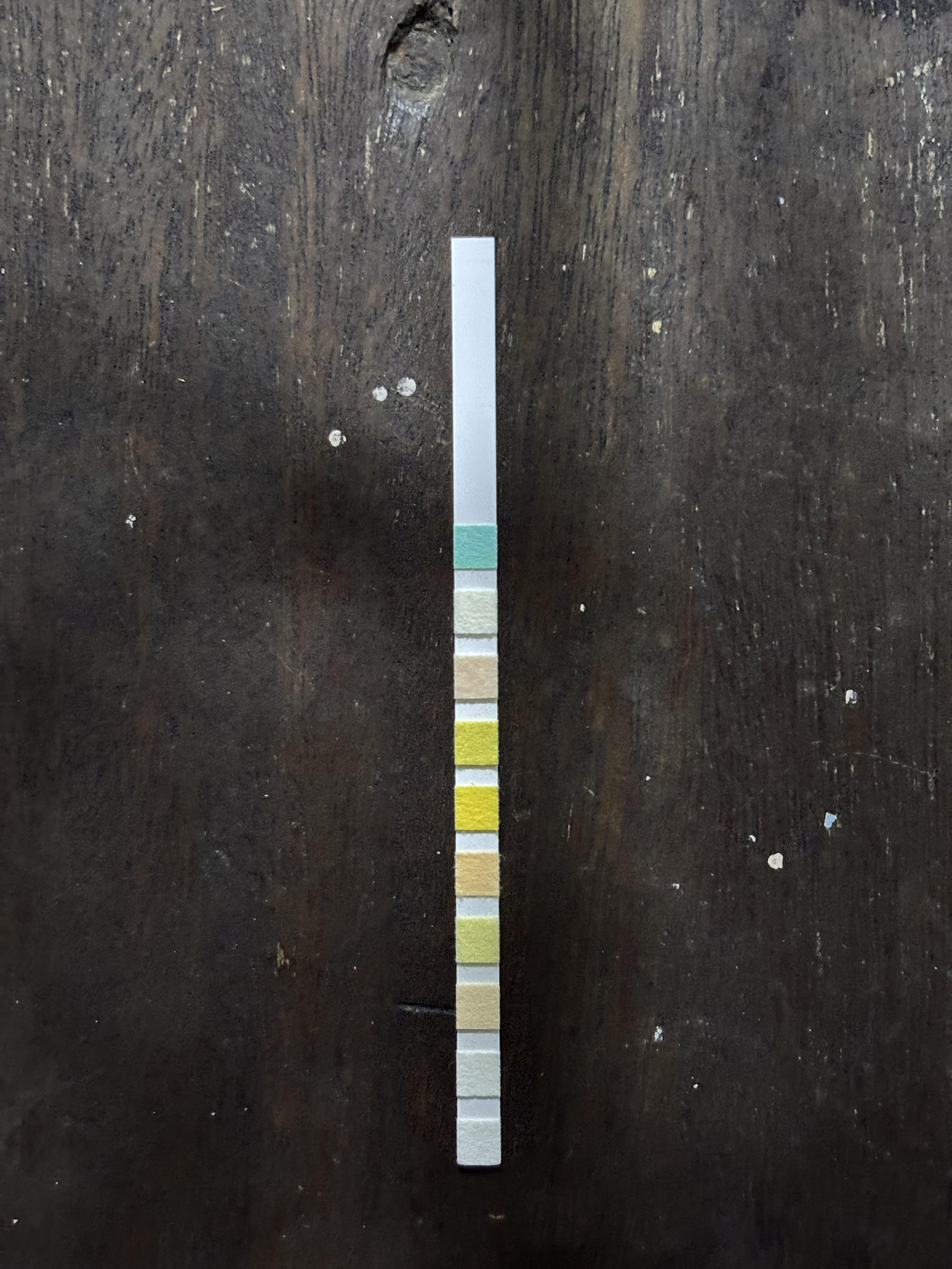Bilirubin: (456, 593, 496, 633)
Blood: (456, 789, 497, 829)
Glucose: (456, 527, 497, 567)
Ketone: (455, 658, 498, 697)
Leukocytes: (459, 1122, 501, 1163)
Nitrite: (459, 1055, 498, 1095)
Protein: (458, 920, 498, 962)
SpGravity: (456, 724, 497, 764)
Urobilinogen: (458, 985, 498, 1029)
pH: (457, 854, 498, 895)
strip: (452, 238, 500, 1166)
